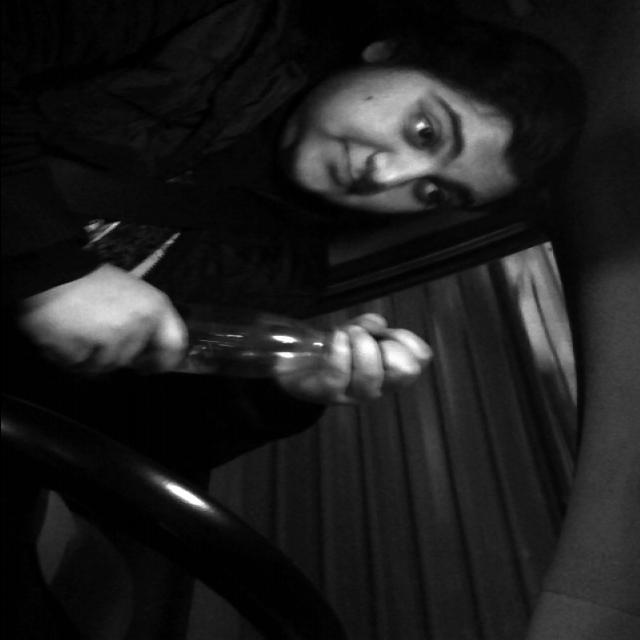drinking: (44, 315, 420, 401)
